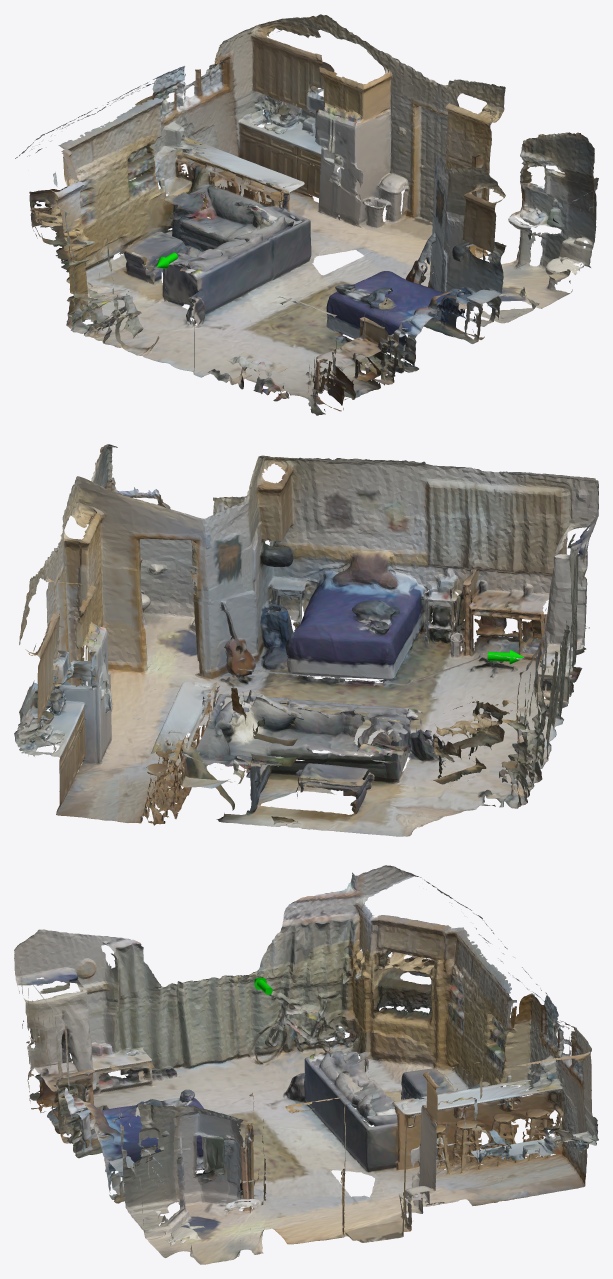
The model's file is situation_9.glb.
3 renders of one model, top to bottom at view 1: azimuth 30°, elevation 25°; view 2: azimuth 150°, elevation 25°; view 3: azimuth 270°, elevation 25°, orthographic. The views are drawn at different scales.
Parts seen in each view (by area): view 1: world; view 2: world; view 3: world.
Part boxes in pixels (x1,y1,x2,y2): world: (15, 14, 598, 415); world: (14, 444, 598, 836); world: (14, 865, 598, 1264).
Bounding box in the file's own units: 8.42 × 3.03 × 8.74.
